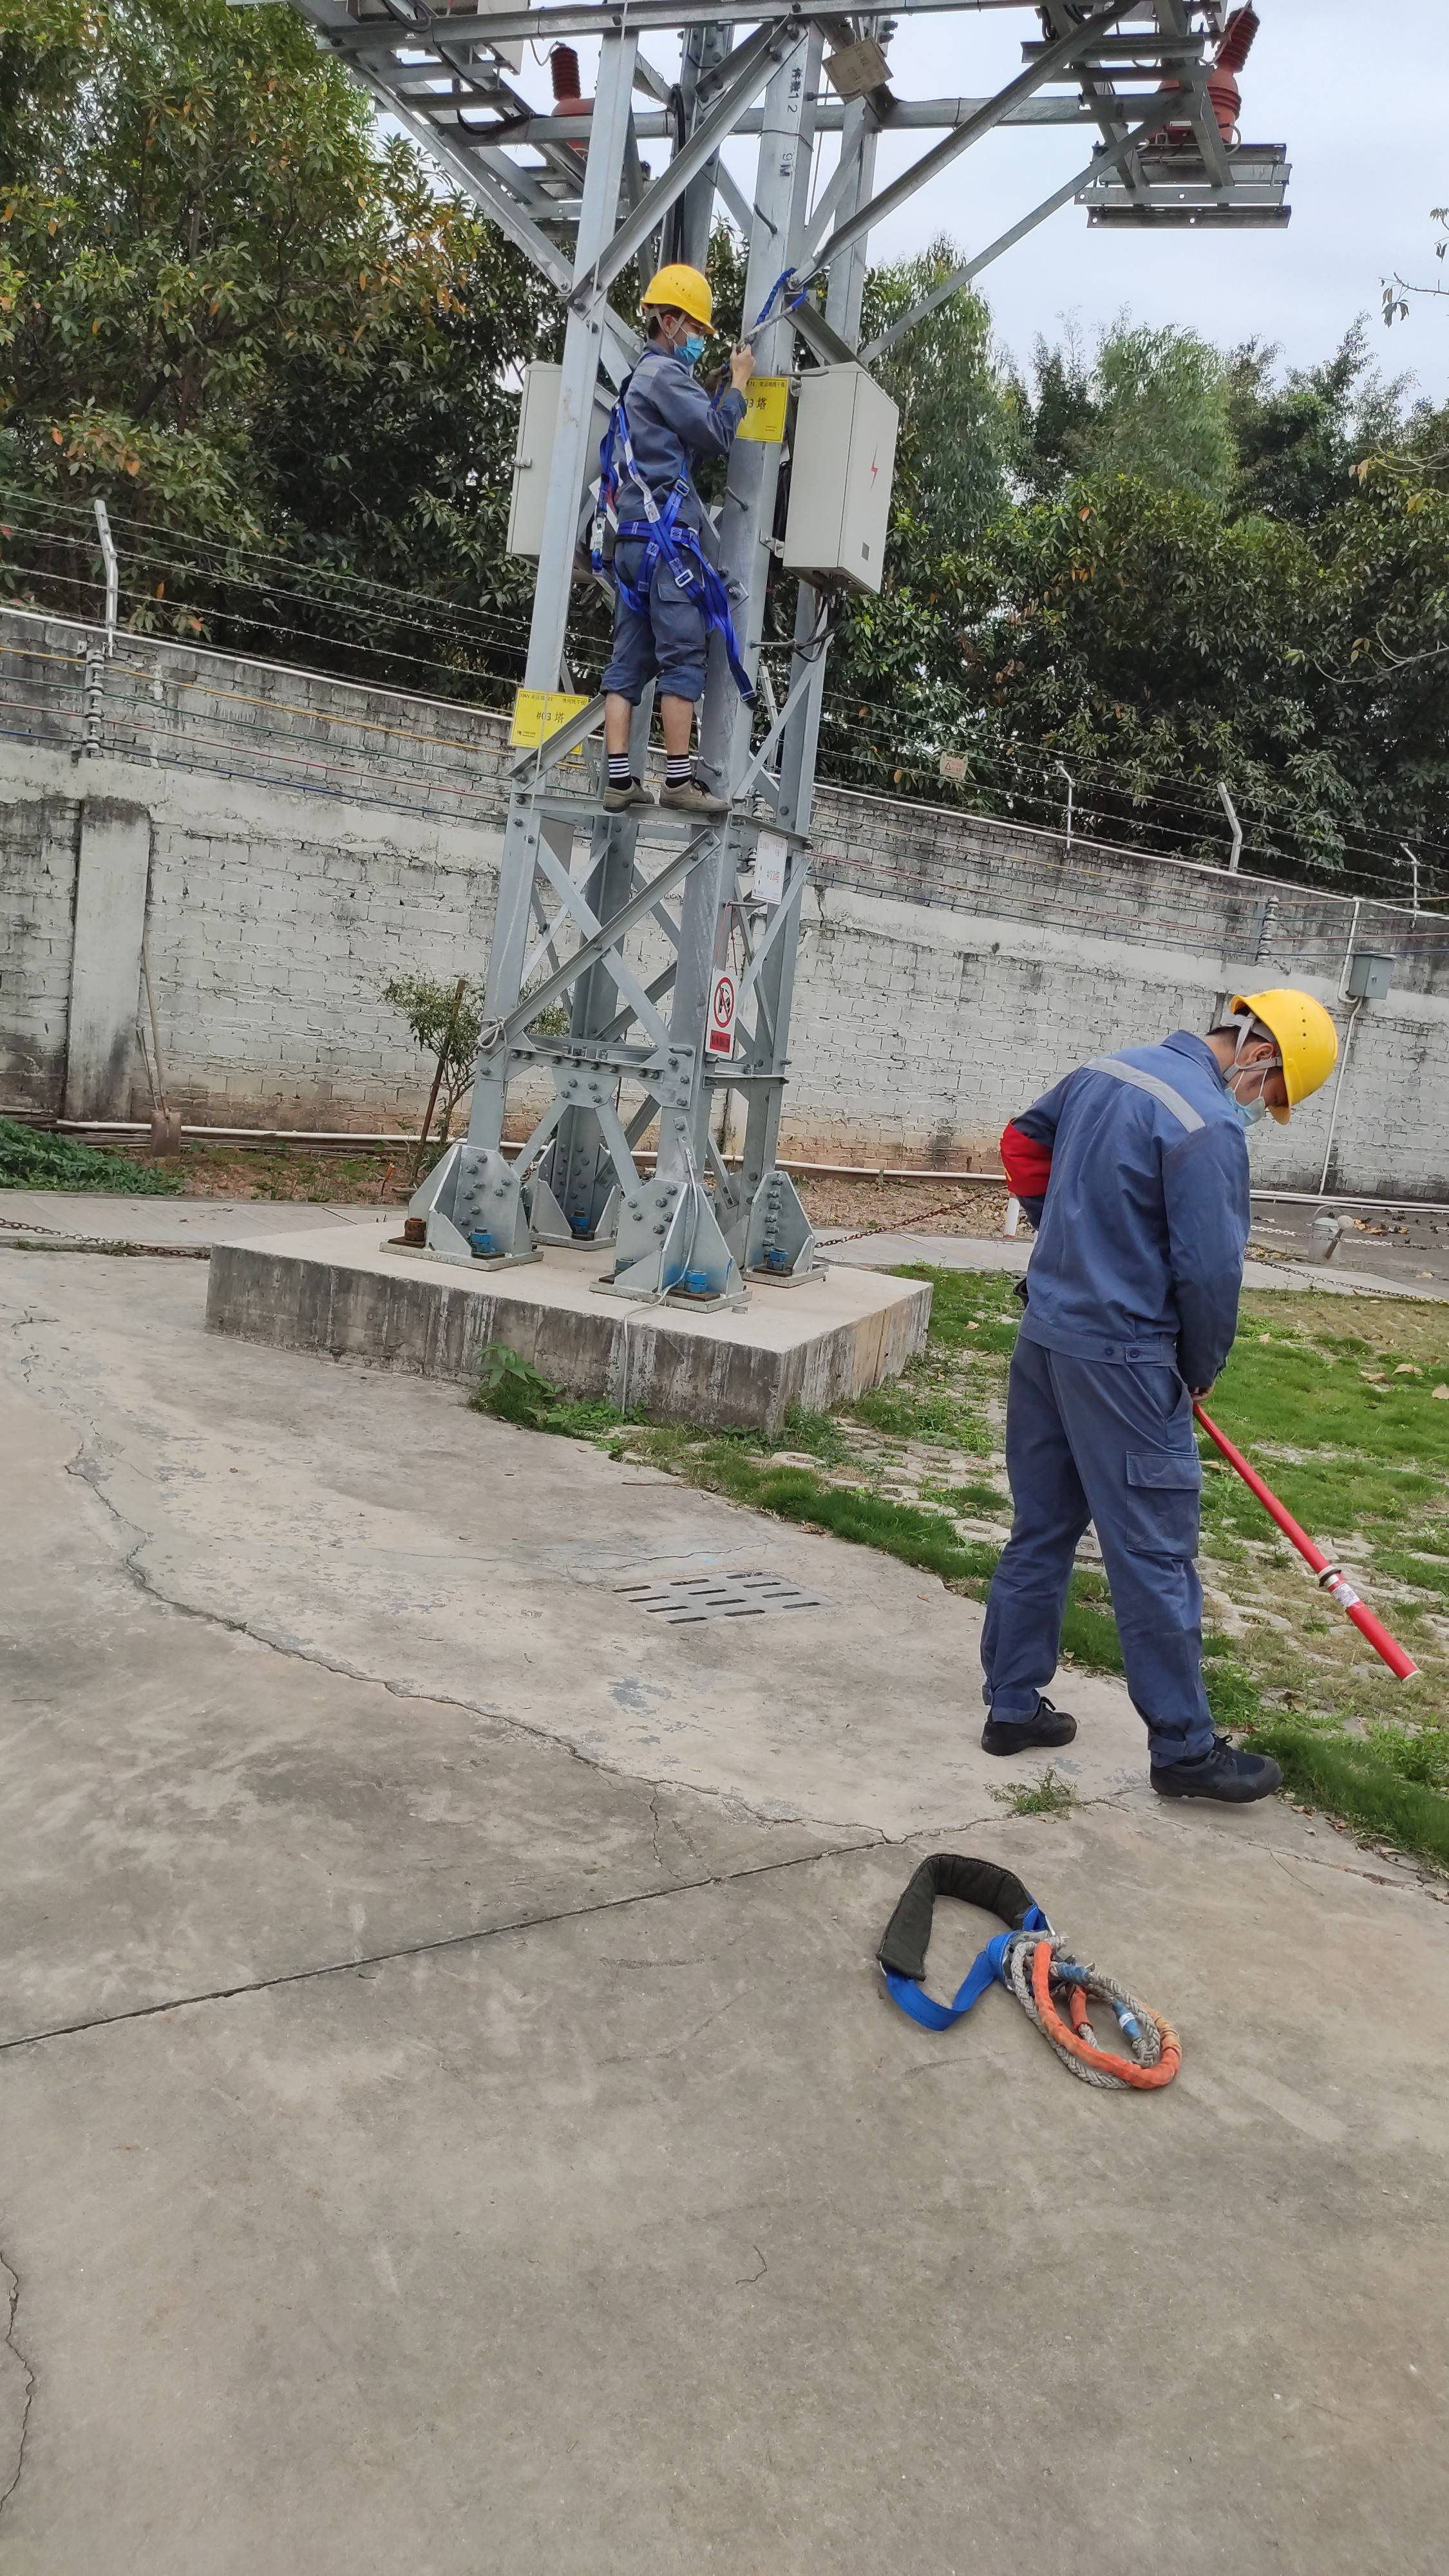downsuit: (982, 1373, 1214, 1730), (605, 541, 720, 701)
upsuit: (996, 1039, 1258, 1338), (600, 343, 748, 494)
wrongbottom: (600, 671, 702, 768)
